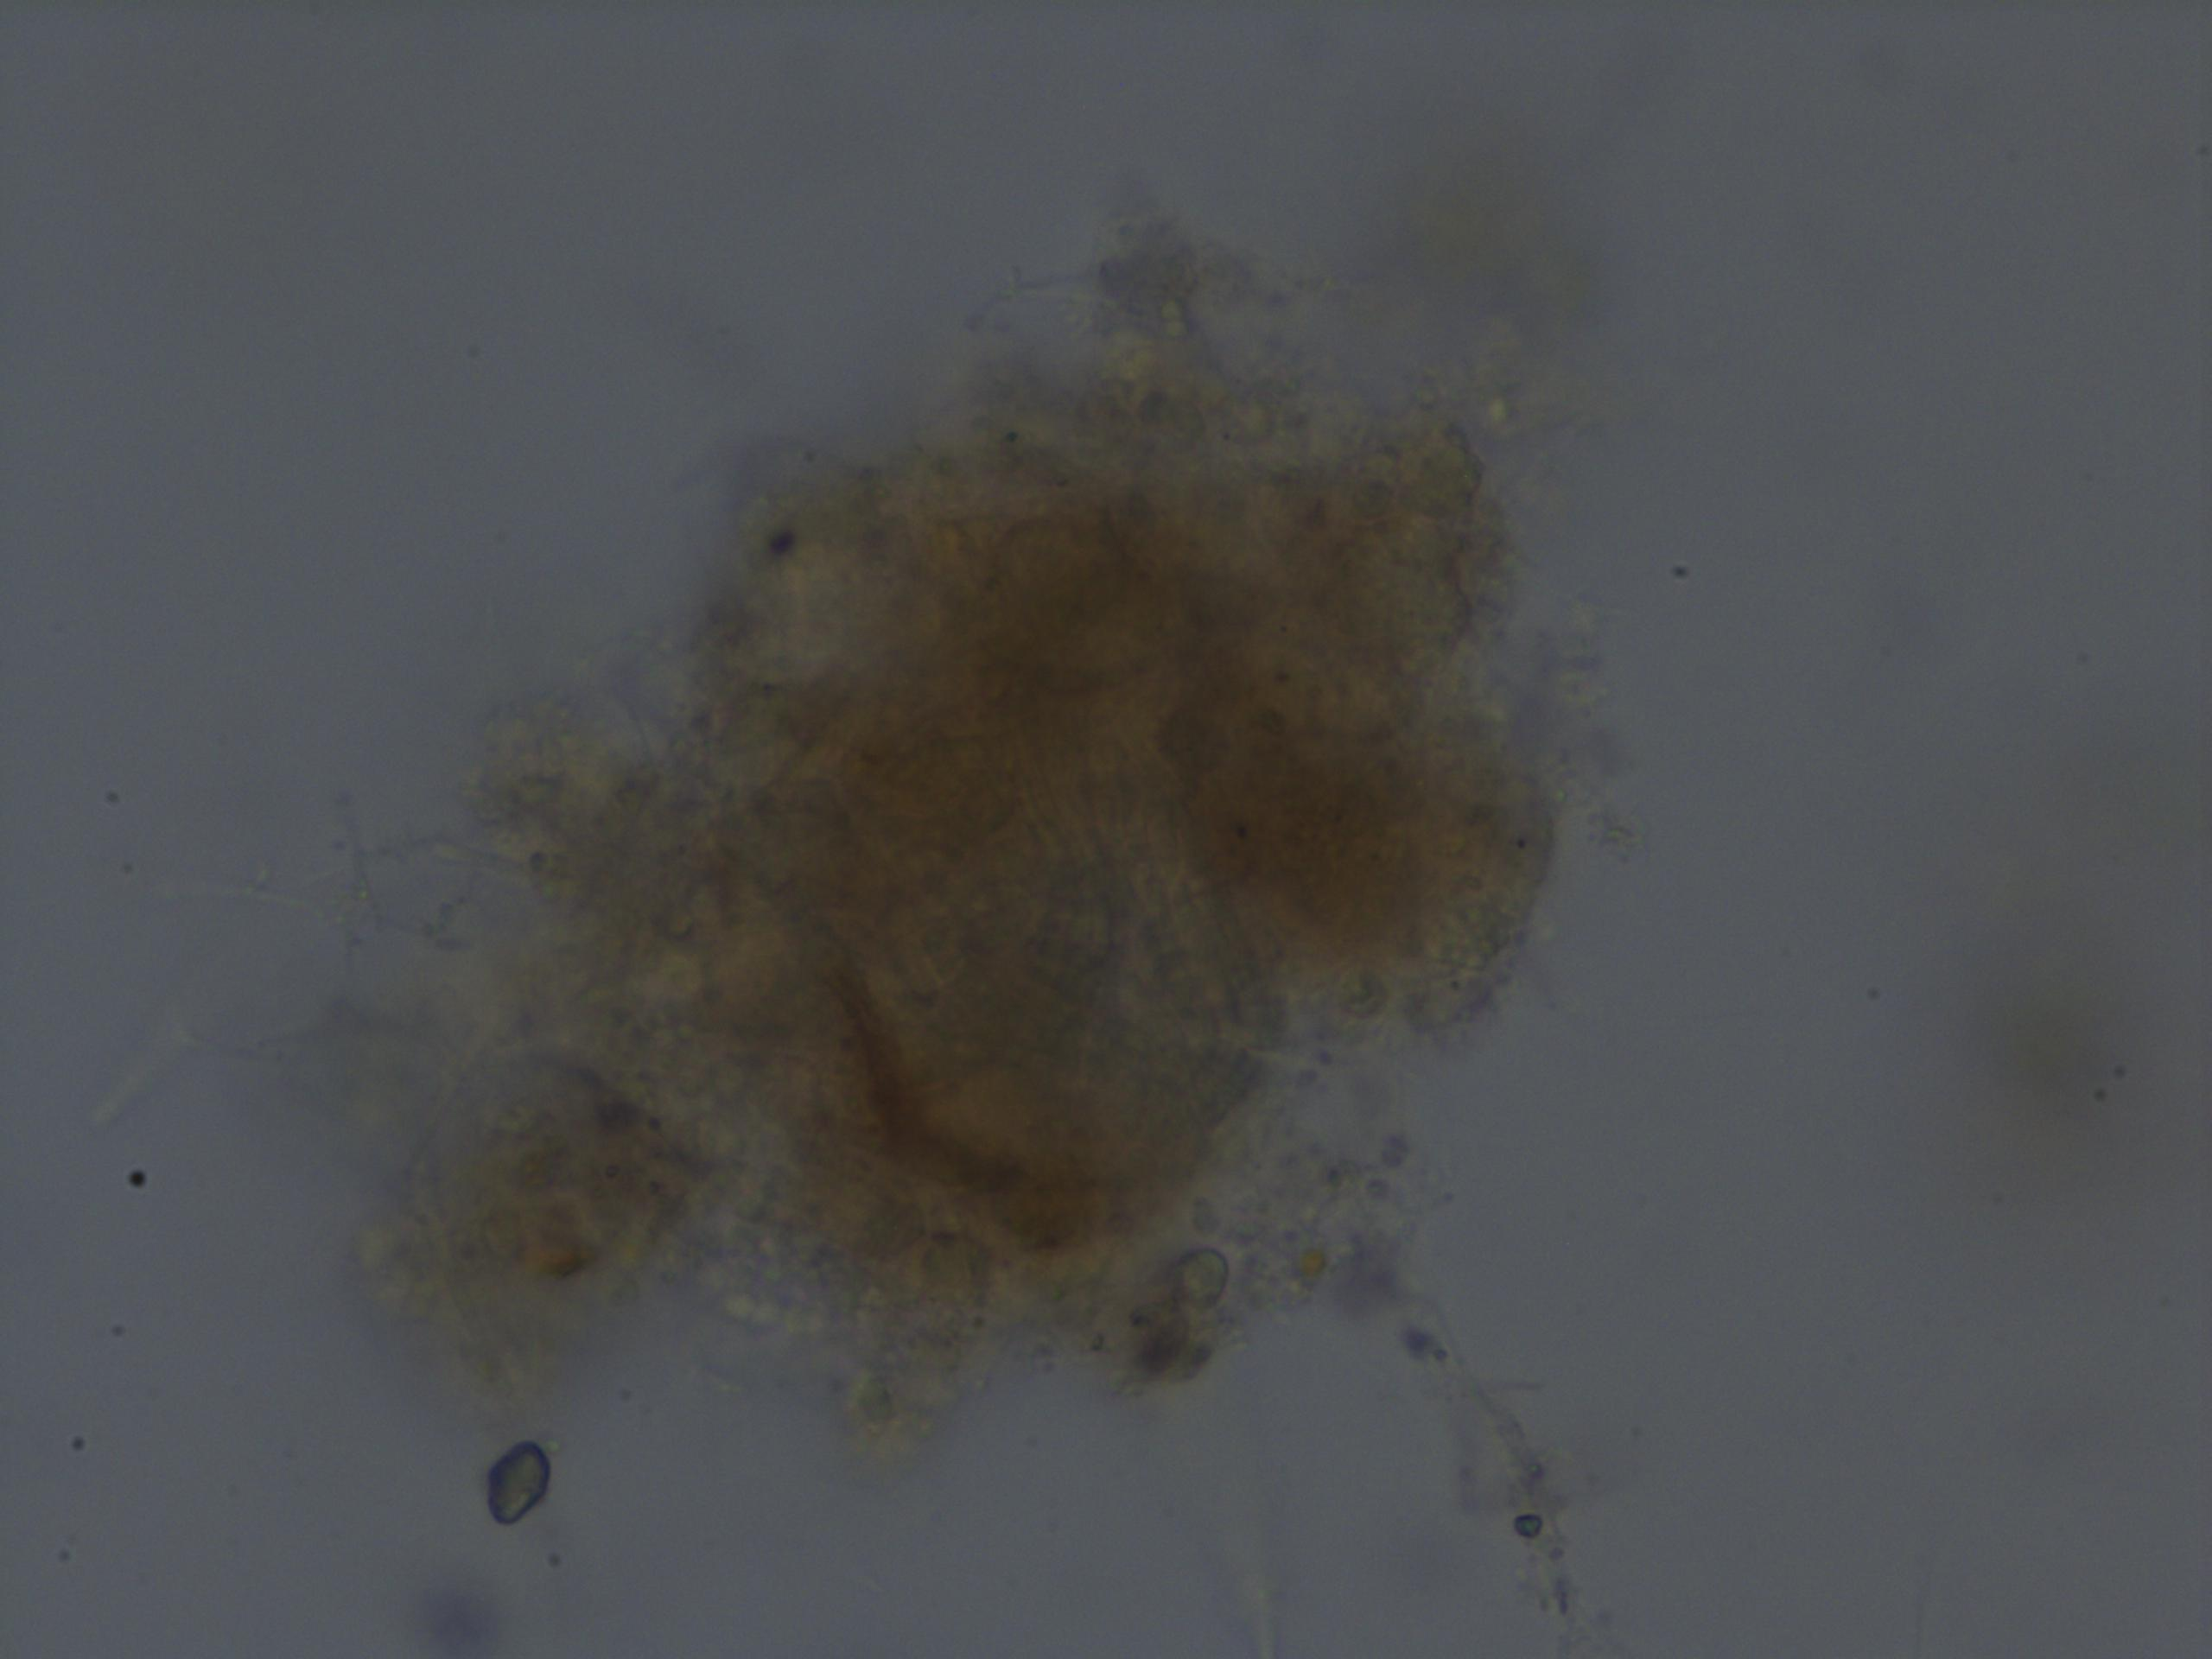filament: (1343, 1262, 1637, 1659)
spherical_floc: (392, 249, 1571, 1403)
